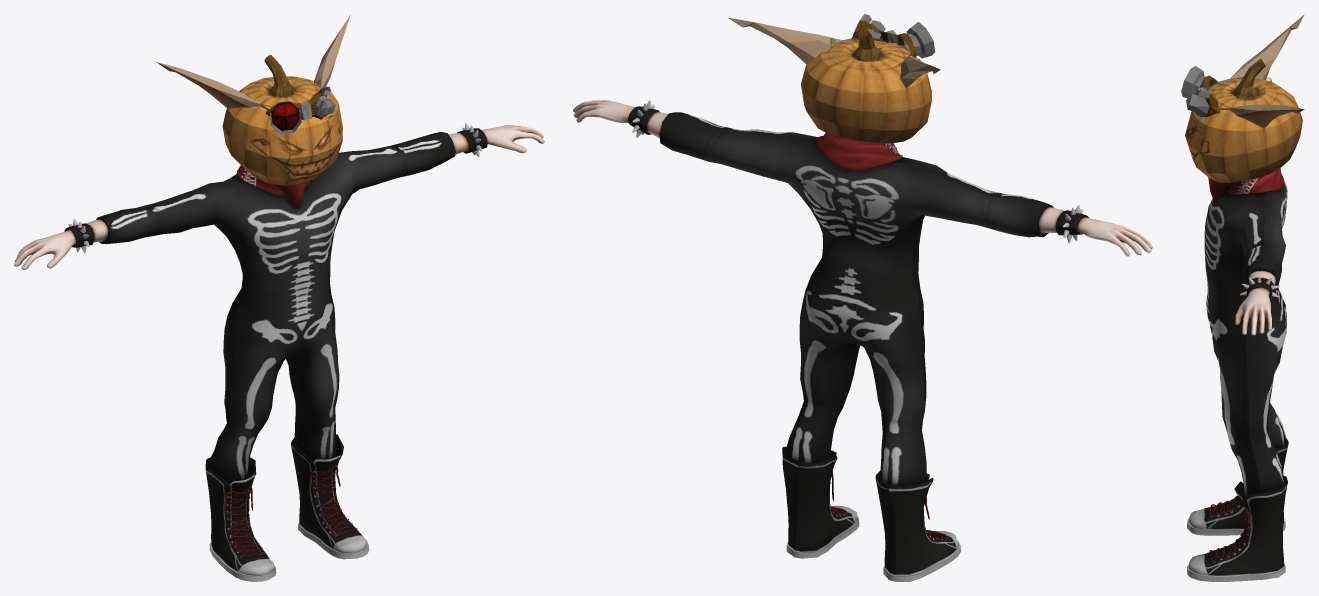
The model's file is jak-white-lod0.glb.
3 renders of one model, left to right at view 1: azimuth 30°, elevation 25°; view 2: azimuth 150°, elevation 25°; view 3: azimuth 270°, elevation 25°, orthographic. The views are drawn at different scales.
Parts seen in each view (by area): view 1: SkeletonCrew, Object_1, eichar-lod0; view 2: SkeletonCrew, Object_1, eichar-lod0; view 3: SkeletonCrew, Object_1, eichar-lod0.
Part boxes in pixels (x1,y1,x2,y2): SkeletonCrew: (14,122,544,581); Object_1: (222,55,342,185); eichar-lod0: (156,14,350,134); SkeletonCrew: (573,100,1152,581); Object_1: (801,27,931,143); eichar-lod0: (728,14,940,88); SkeletonCrew: (1187,77,1288,581); Object_1: (1185,58,1302,182); eichar-lod0: (1181,14,1304,128).
Size of the model in its own units: 2.45 by 2.16 by 0.4952.
Materials: 10 (10 with a texture image).
